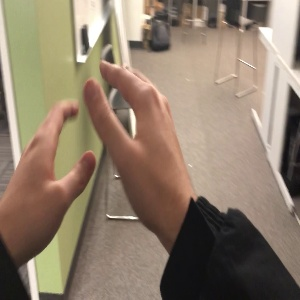hand: (84, 59, 196, 222), (2, 100, 95, 254)
